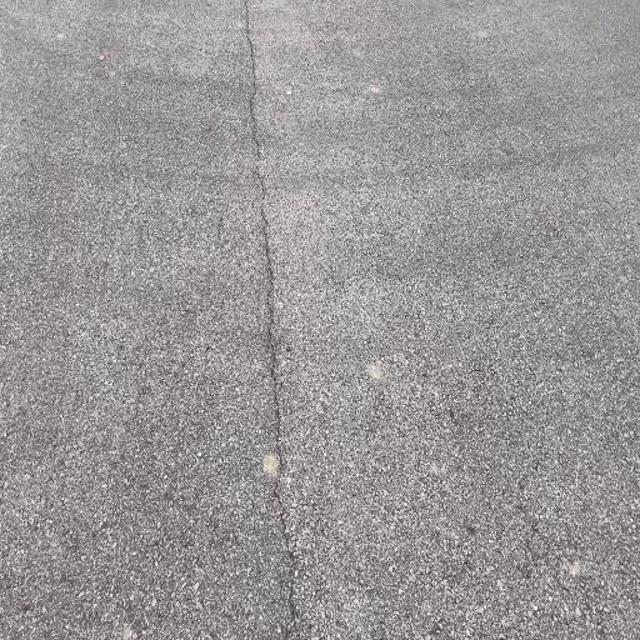Memanjang: (227, 0, 318, 640)
